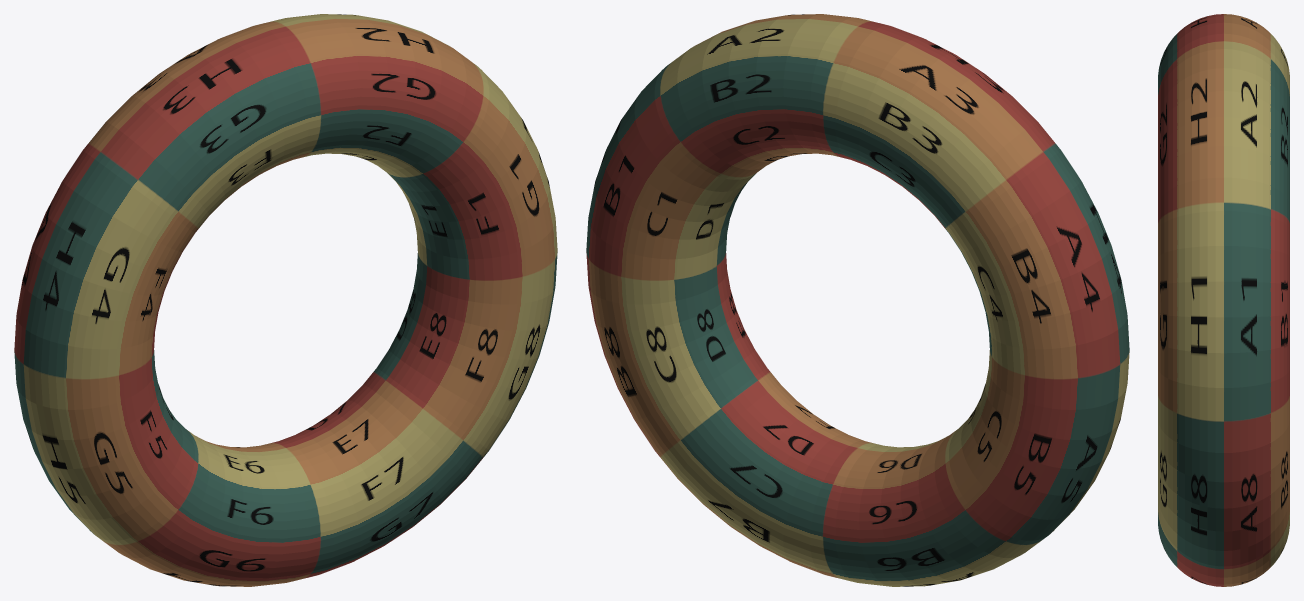
Rendered from texture_torus_R7_r9.glb.
3 renders of one model, left to right at view 1: azimuth 30°, elevation 25°; view 2: azimuth 150°, elevation 25°; view 3: azimuth 270°, elevation 25°, orthographic. The views are drawn at different scales.
Parts seen in each view (by area): view 1: world; view 2: world; view 3: world.
Part boxes in pixels (box(x1,y1,x2,y2)): world: box(14, 14, 557, 586); world: box(586, 14, 1129, 586); world: box(1158, 14, 1289, 586).
Size of the model in its own units: 19.07 by 19.03 by 4.39.
Materials: 1 (1 with a texture image).
